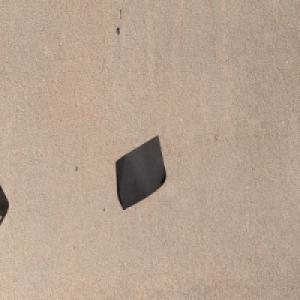PaintChip: (115, 133, 167, 211)
